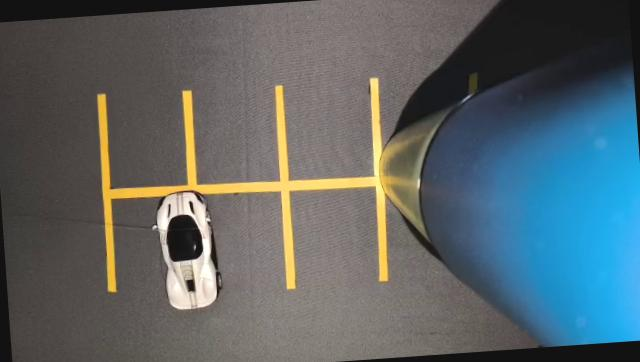toy_car: (140, 169, 253, 332)
